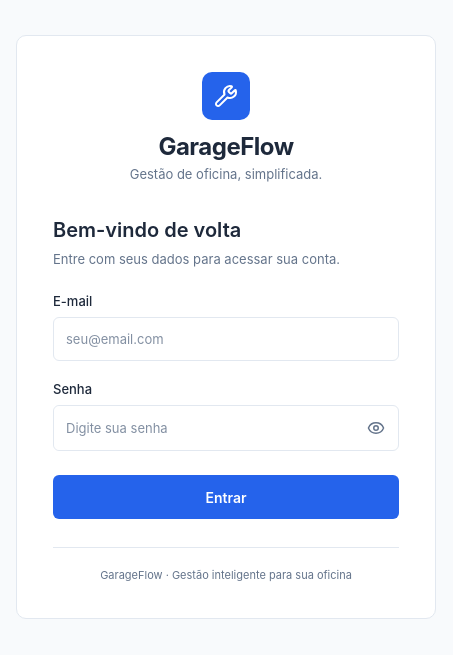
Scenario: LoginPage › deve exibir mensagem de erro quando o login falhar
Type "mock@garageflow.com" into the field labelled "E-mail". click: point(226, 339)
box: [53,317,399,361]
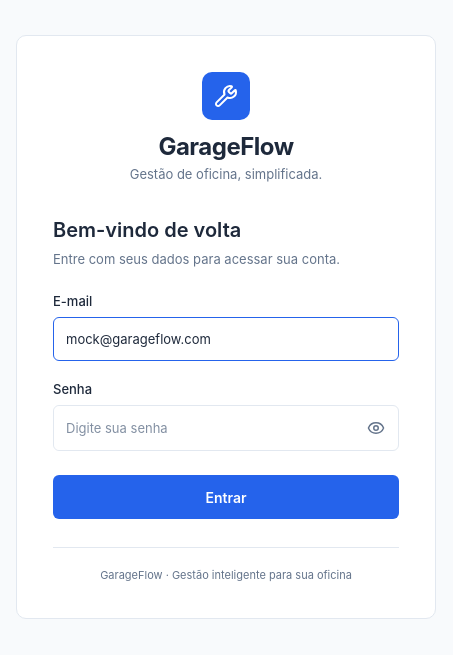
Type "senha-incorreta" into the password field labelled "Senha". click: point(204, 428)
box: [54,406,354,450]
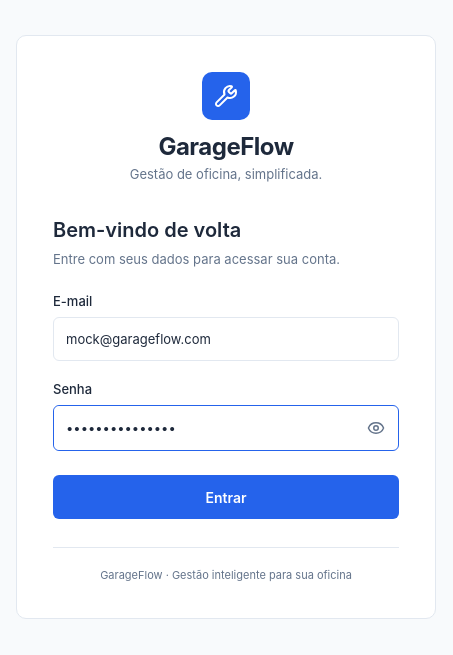
Click the button "Entrar". click: point(226, 497)
box: [53,475,399,519]
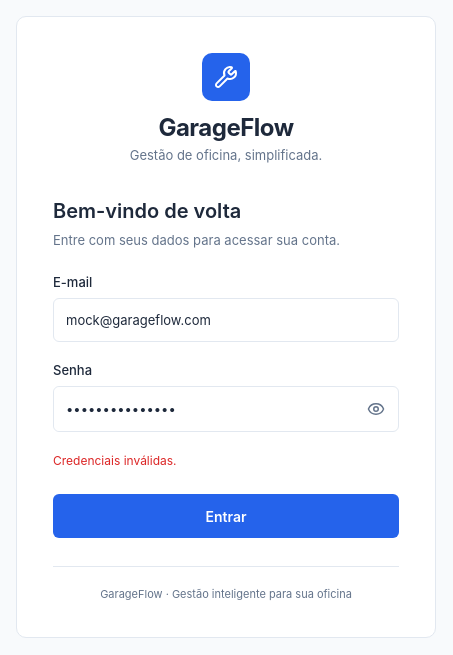
expect the message reads "Credenciais inválidas.": met, box [53,453,177,468]
